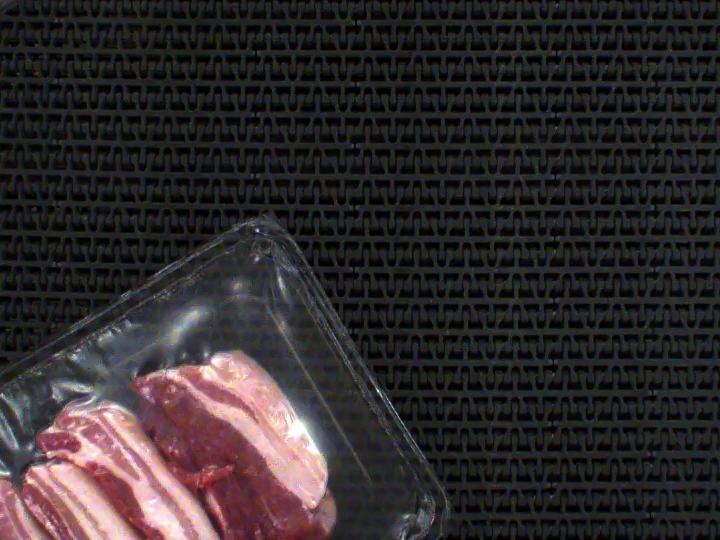unsealed: (0, 268, 418, 540)
